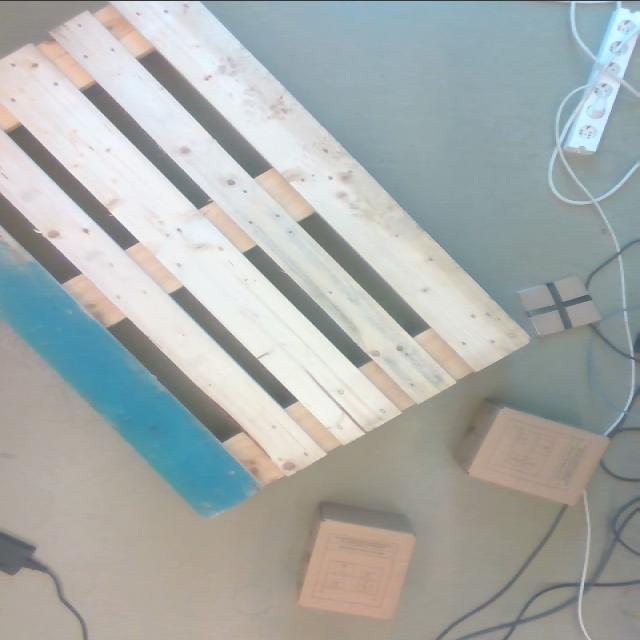pallet: (2, 0, 528, 515)
